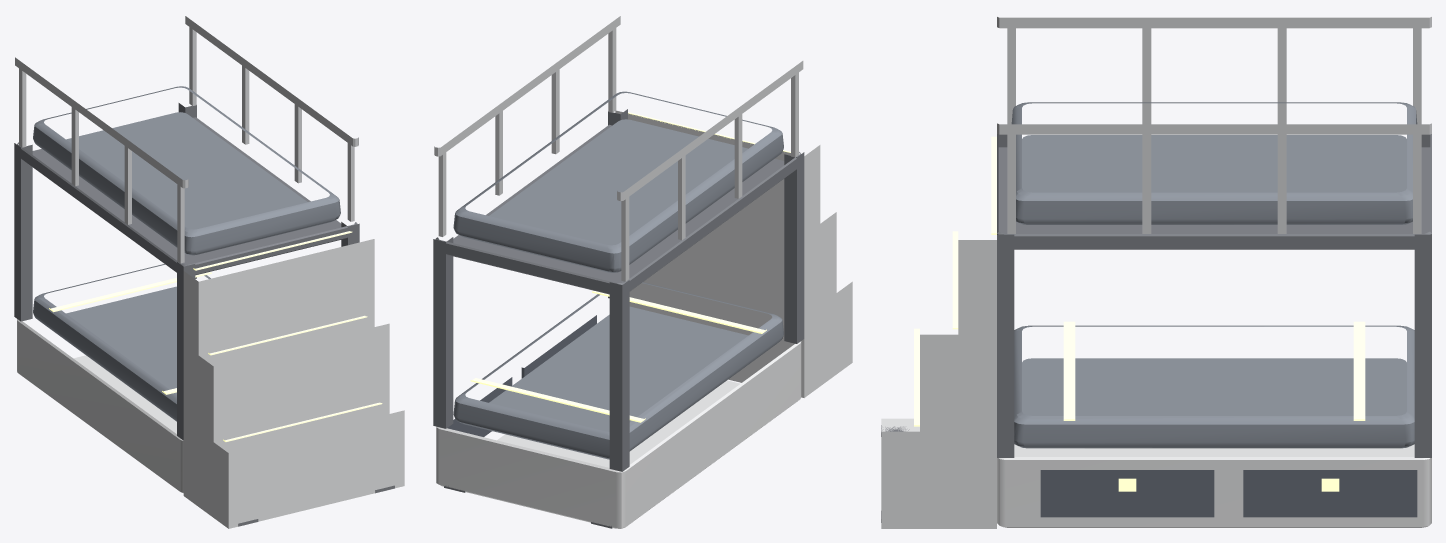
File: iter_04.glb
3 renders of one model, left to right at view 1: azimuth 30°, elevation 25°; view 2: azimuth 150°, elevation 25°; view 3: azimuth 270°, elevation 25°, orthographic. The views are drawn at different scales.
Visible parts, largest first — view 1: Step_Stair, Upper_Mattress, Upper_Frame, Plinth, Mattress_Lo, Guard_Rails, Step_Nosing, Mattress_Straps; view 2: Upper_Mattress, Plinth, Mattress_Lo, Step_Stair, Upper_Frame, Guard_Rails, Mattress_Straps, Drawer_Fronts; view 3: Mattress_Lo, Upper_Mattress, Step_Stair, Upper_Frame, Plinth, Guard_Rails, Drawer_Fronts, Mattress_Straps, Step_Nosing.
Boxes of the visible parts, <box> form: Step_Stair: <box>183,239,404,528</box>; Upper_Mattress: <box>33,86,340,255</box>; Upper_Frame: <box>14,103,359,440</box>; Plinth: <box>17,319,183,493</box>; Mattress_Lo: <box>33,264,210,421</box>; Guard_Rails: <box>15,16,358,263</box>; Step_Nosing: <box>193,231,382,441</box>; Mattress_Straps: <box>49,272,211,394</box>; Upper_Mattress: <box>453,91,783,272</box>; Plinth: <box>436,341,801,528</box>; Mattress_Lo: <box>453,282,783,459</box>; Step_Stair: <box>615,110,852,397</box>; Upper_Frame: <box>433,109,804,471</box>; Guard_Rails: <box>434,16,803,281</box>; Mattress_Straps: <box>470,291,766,422</box>; Drawer_Fronts: <box>447,315,596,436</box>; Mattress_Lo: <box>1014,325,1414,448</box>; Upper_Mattress: <box>1011,102,1417,224</box>; Step_Stair: <box>881,240,996,528</box>; Upper_Frame: <box>997,134,1431,457</box>; Plinth: <box>997,444,1431,527</box>; Guard_Rails: <box>997,17,1431,233</box>; Drawer_Fronts: <box>1040,470,1417,517</box>; Mattress_Straps: <box>1063,321,1365,420</box>; Step_Nosing: <box>914,136,996,426</box>.
Bounding box in the file's own units: 0.918 × 1.54 × 1.9.
